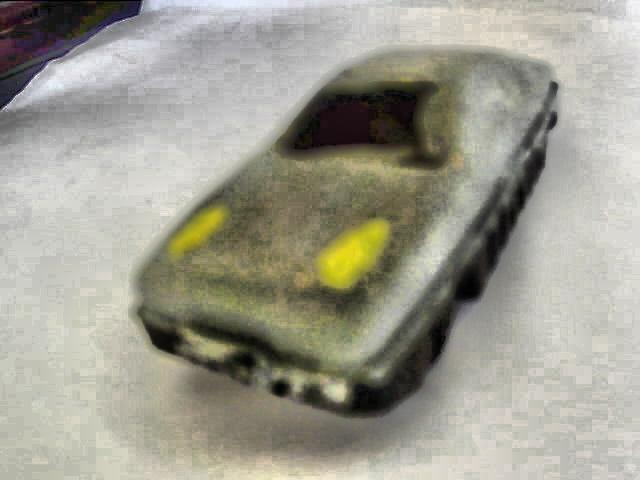normal_car: (124, 46, 562, 421)
